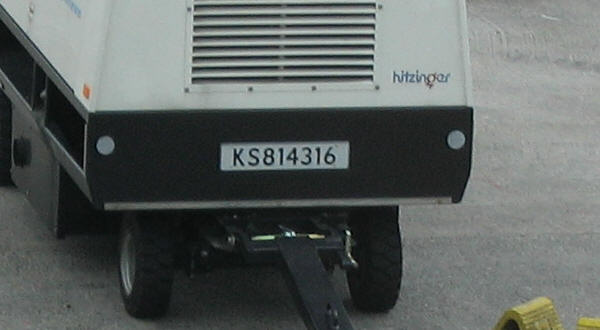license_plate: (218, 140, 351, 171)
